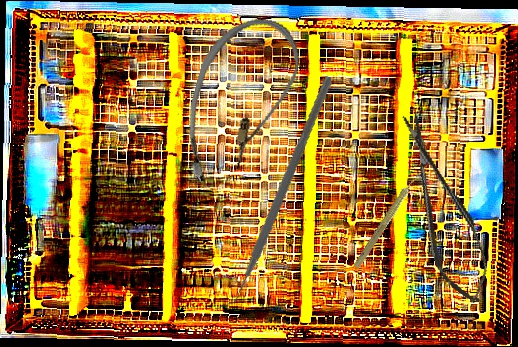Cannula: (171, 5, 309, 201)
Chopper: (182, 74, 364, 312)
Handpiece: (351, 171, 423, 272)
Micro Scissor: (391, 104, 497, 311)
